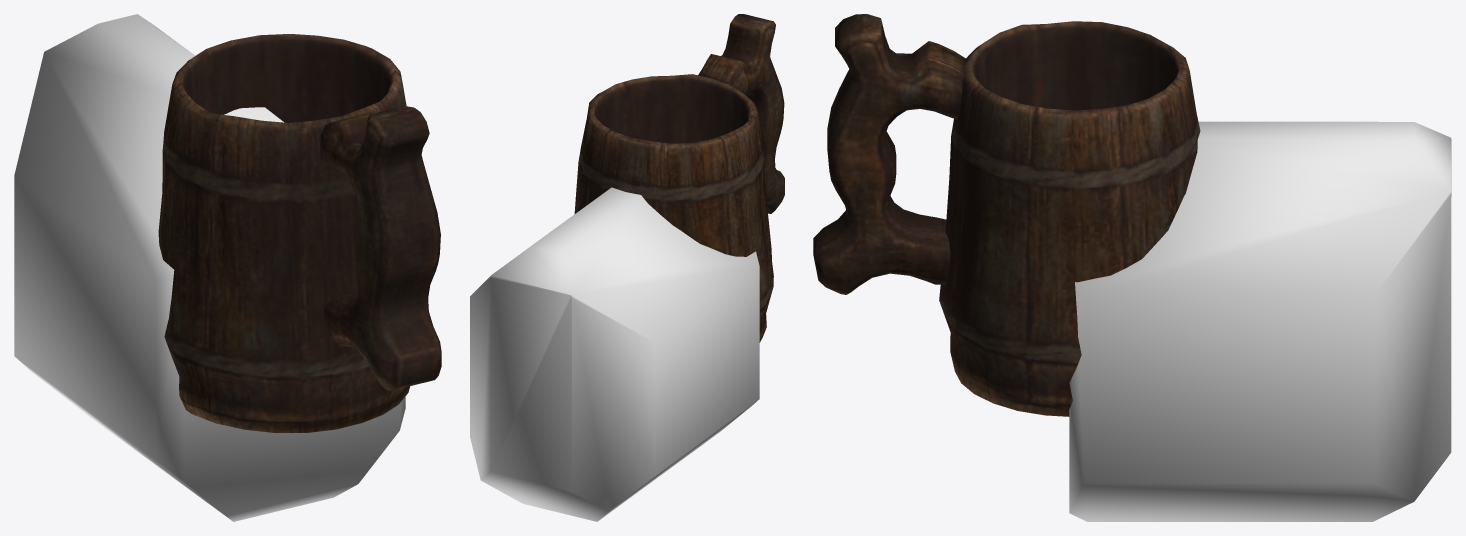
File: SM_BeerMug_B_Food.fbx
The picture shows the model from 3 angles, left to right: view 1: azimuth 30°, elevation 25°; view 2: azimuth 150°, elevation 25°; view 3: azimuth 270°, elevation 25°; orthographic projection. The views are drawn at different scales.
Visible parts, largest first — view 1: SM_BeerMug_B_Food, SM_BeerMug_B_Food_ConvexHulls; view 2: SM_BeerMug_B_Food_ConvexHulls, SM_BeerMug_B_Food; view 3: SM_BeerMug_B_Food_ConvexHulls, SM_BeerMug_B_Food.
Boxes of the visible parts, <box> form: SM_BeerMug_B_Food: <box>158,34,441,432</box>; SM_BeerMug_B_Food_ConvexHulls: <box>14,14,405,521</box>; SM_BeerMug_B_Food_ConvexHulls: <box>470,187,759,521</box>; SM_BeerMug_B_Food: <box>574,14,784,342</box>; SM_BeerMug_B_Food_ConvexHulls: <box>1069,121,1451,521</box>; SM_BeerMug_B_Food: <box>813,14,1200,416</box>.
Bounding box in the file's own units: 0.1751 × 0.3244 × 0.3961.
